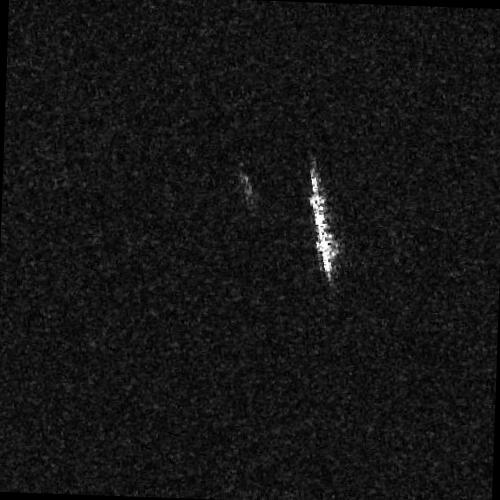ship: (308, 160, 341, 285)
